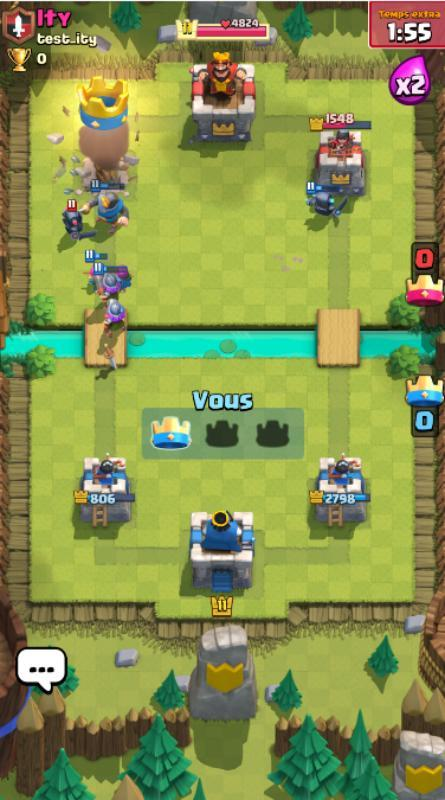archere: (81, 250, 109, 293), (111, 263, 135, 294)
chevalier: (78, 179, 131, 235)
mini_PEKKA: (304, 180, 349, 220), (61, 198, 99, 243)
mousquetaire: (94, 263, 128, 310), (103, 298, 128, 339)
